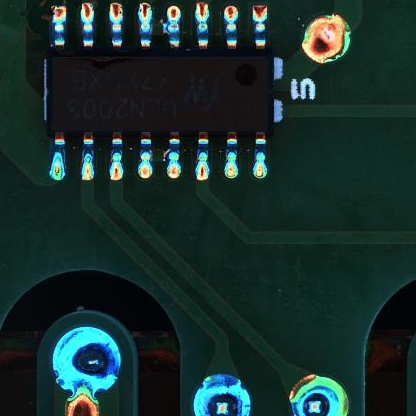spot: (51, 326, 123, 392), (191, 373, 253, 416), (287, 374, 349, 416)
